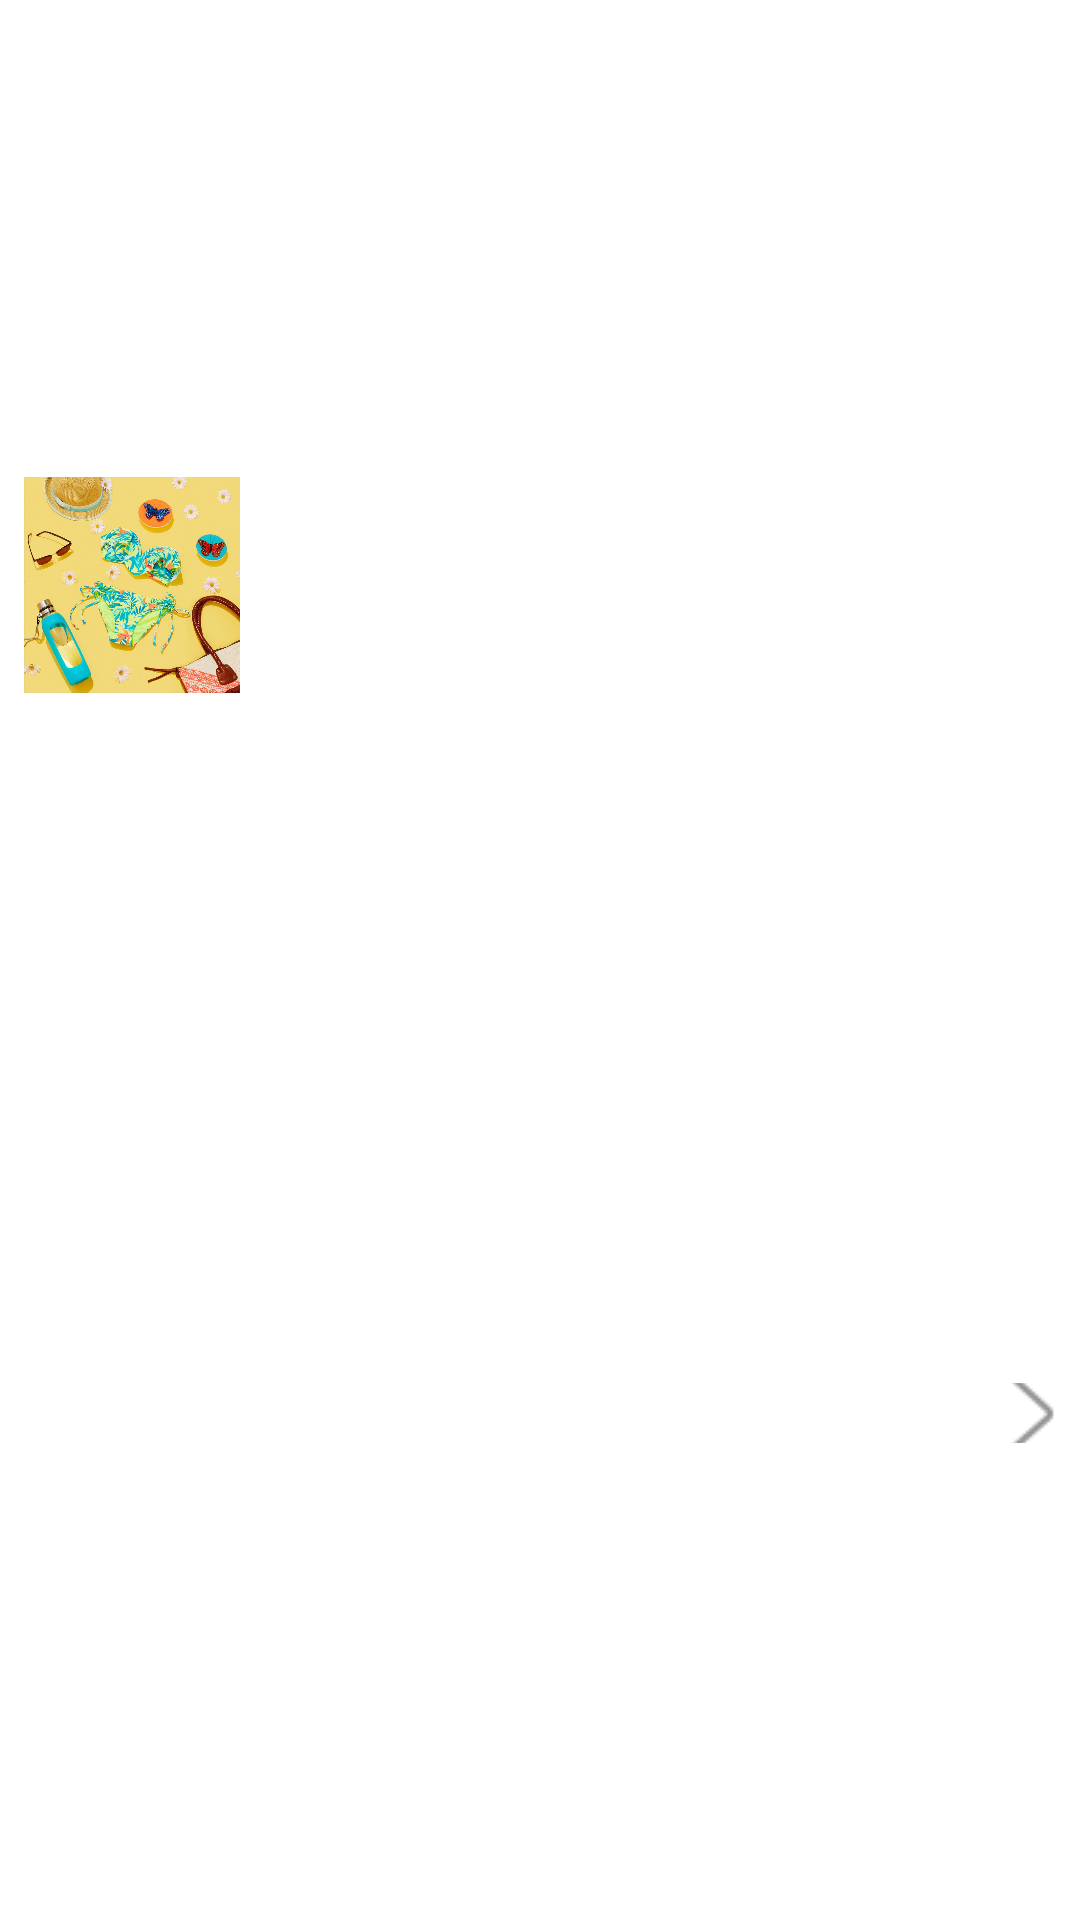

Where icons sit on this 1080px x 1920px app screen, as (x1, y1, x2, y2):
rowview more: (1013, 1383, 1054, 1443)
